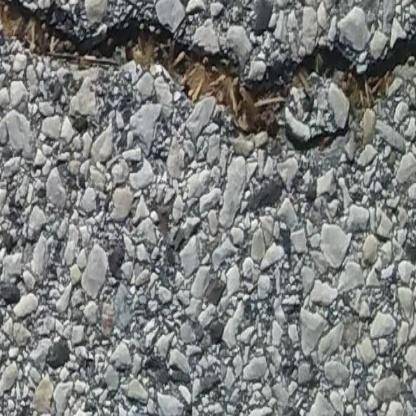Cracks: (0, 0, 416, 141)
